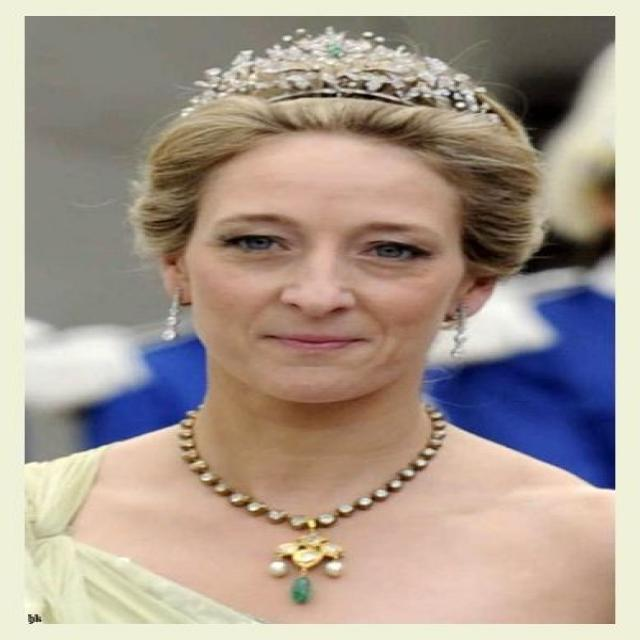Earring: (442, 273, 477, 369), (156, 284, 185, 354)
